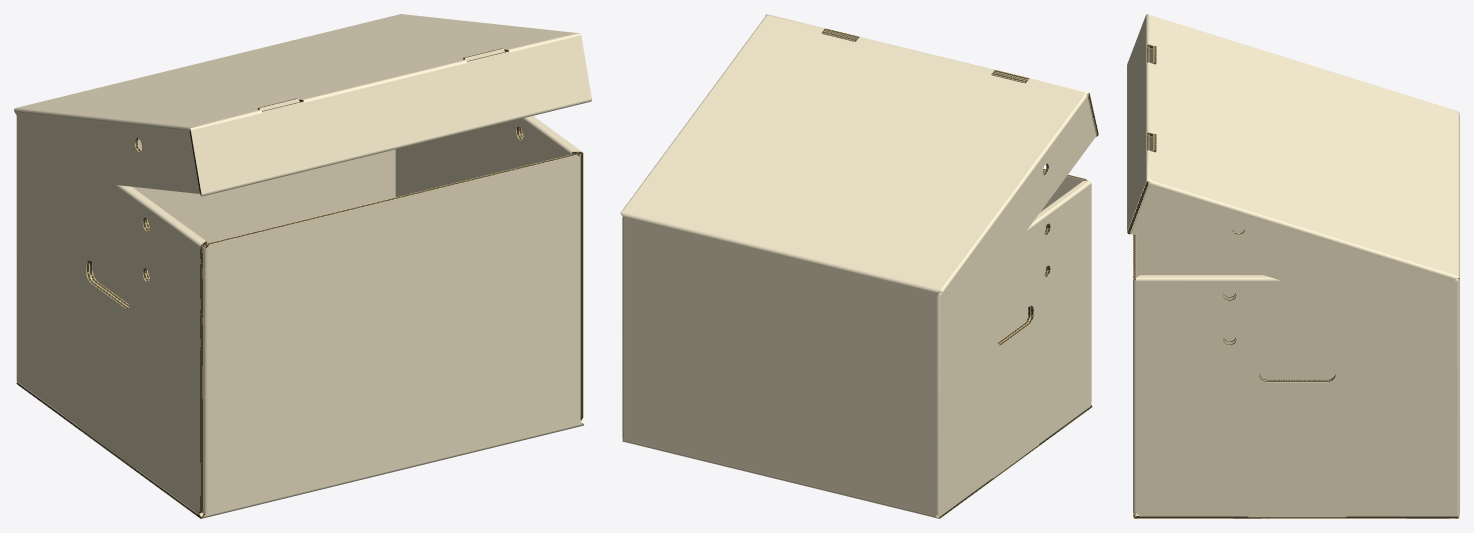
The picture shows the model from 3 angles, left to right: view 1: azimuth 30°, elevation 25°; view 2: azimuth 150°, elevation 25°; view 3: azimuth 270°, elevation 25°; orthographic projection. The views are drawn at different scales.
Visible parts, largest first — view 1: _4E0002_ARD-node; view 2: _4E0002_ARD-node; view 3: _4E0002_ARD-node.
Part boxes in pixels (bbox=[...]): _4E0002_ARD-node: bbox=[14, 14, 591, 518]; _4E0002_ARD-node: bbox=[620, 14, 1098, 518]; _4E0002_ARD-node: bbox=[1127, 14, 1459, 518].
Size of the model in its own units: 0.4641 by 0.4393 by 0.39.
3 materials, 1 textured.
